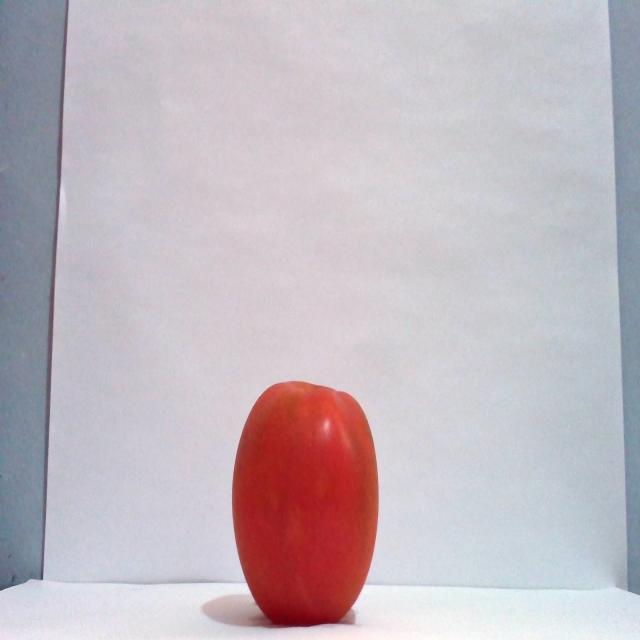Red: (230, 379, 380, 626)
